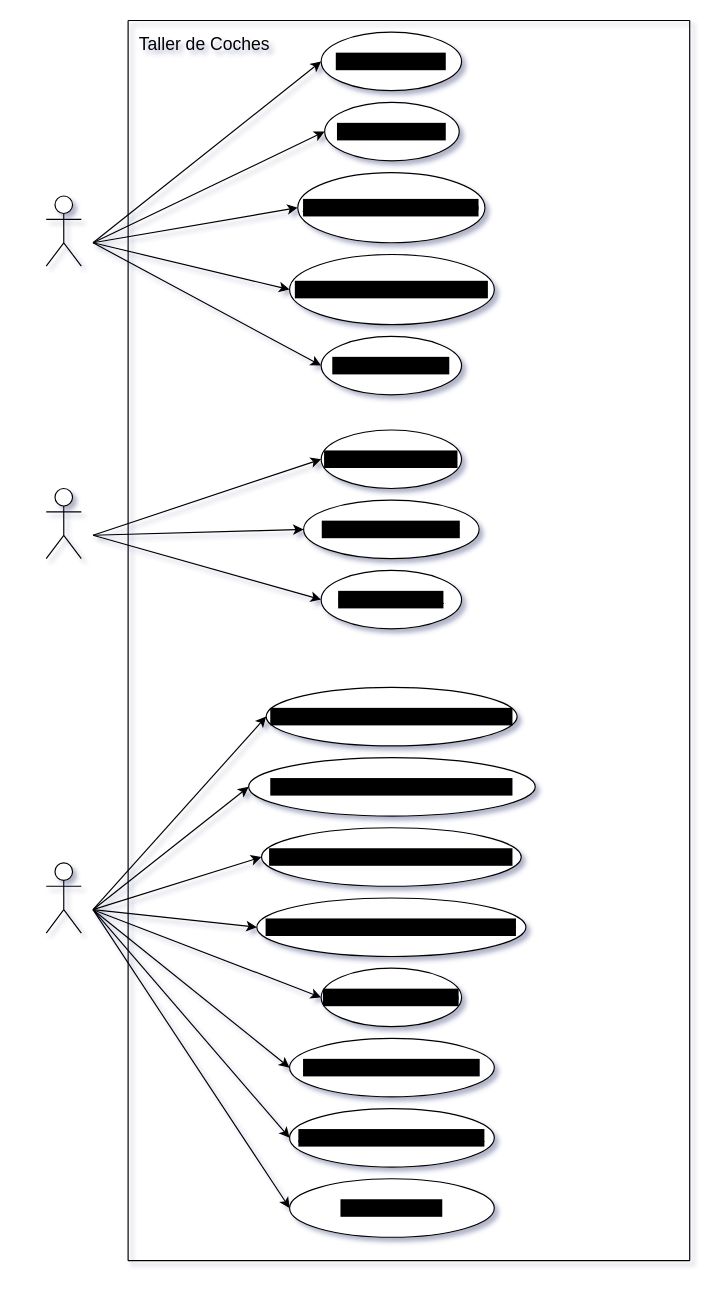
Image size: 718x1289. Some labels were removed from this diagram. The centre of each missing label's shape, as x and y in pixels:
Administrador: (63,897)
Cliente: (63,230)
Mecanico: (63,523)
